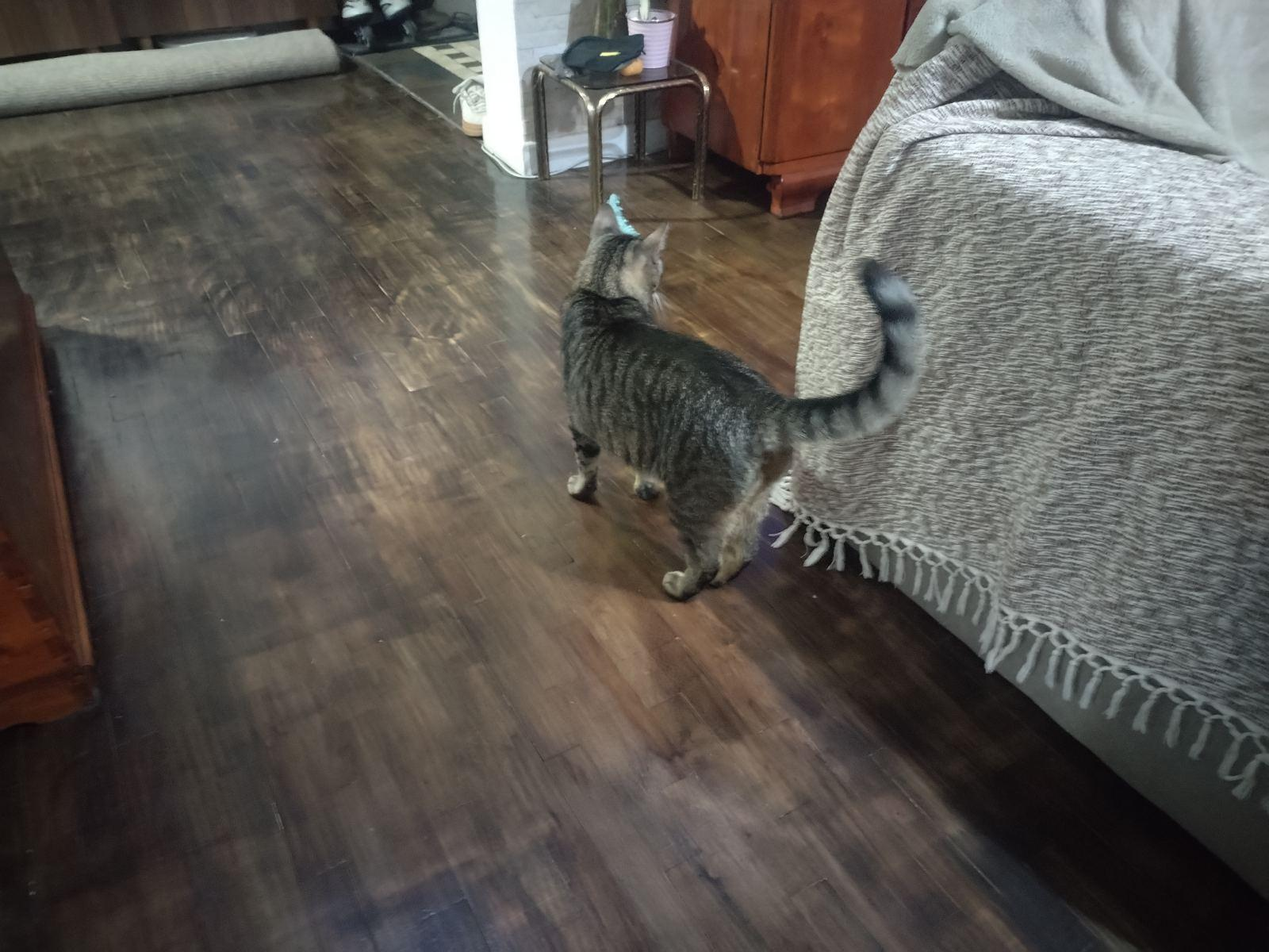macka: (557, 196, 932, 609)
